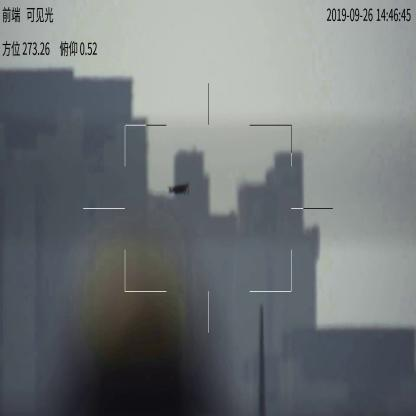uav: (166, 181, 192, 199)
